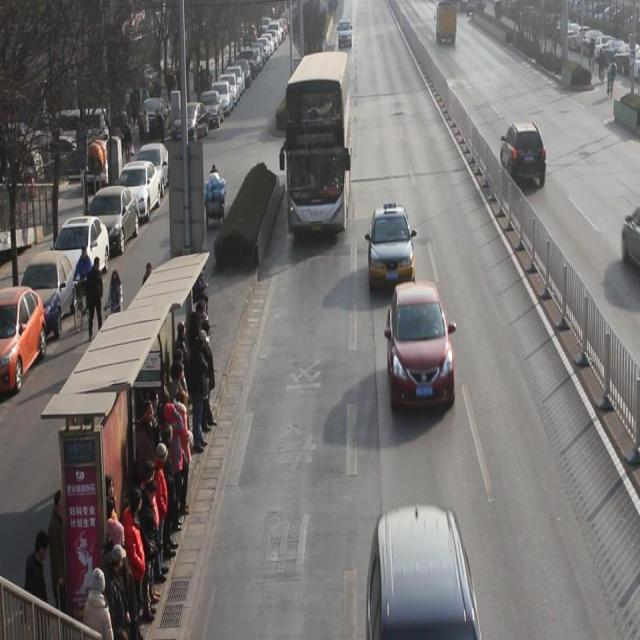car: (365, 508, 482, 640), (387, 280, 456, 412), (369, 207, 416, 290), (501, 123, 546, 190)
van: (283, 56, 347, 236)
